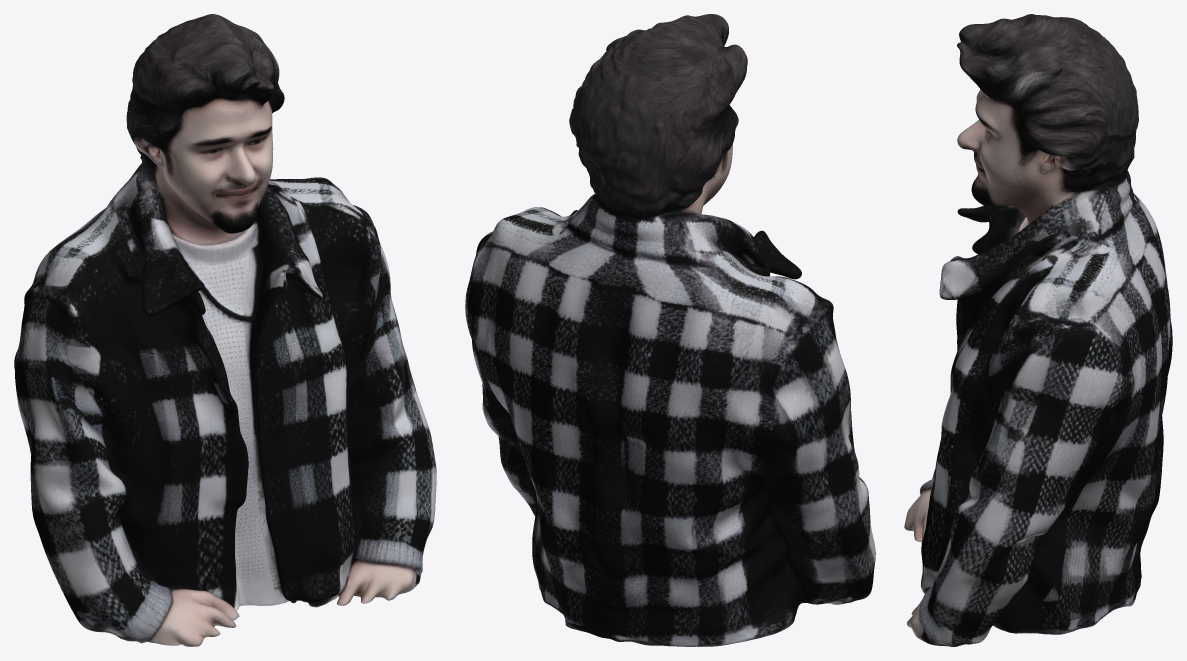
The model's file is portrait.glb.
The picture shows the model from 3 angles, left to right: view 1: azimuth 30°, elevation 25°; view 2: azimuth 150°, elevation 25°; view 3: azimuth 270°, elevation 25°; orthographic projection. The views are drawn at different scales.
Parts seen in each view (by area): view 1: mesh_node; view 2: mesh_node; view 3: mesh_node.
Part boxes in pixels (x1=…): mesh_node: x1=14, y1=14, x2=436, y2=646; mesh_node: x1=465, y1=14, x2=875, y2=646; mesh_node: x1=904, y1=14, x2=1172, y2=646.
Size of the model in its own units: 1.32 by 1.9 by 0.8204.
1 material, 1 textured.
